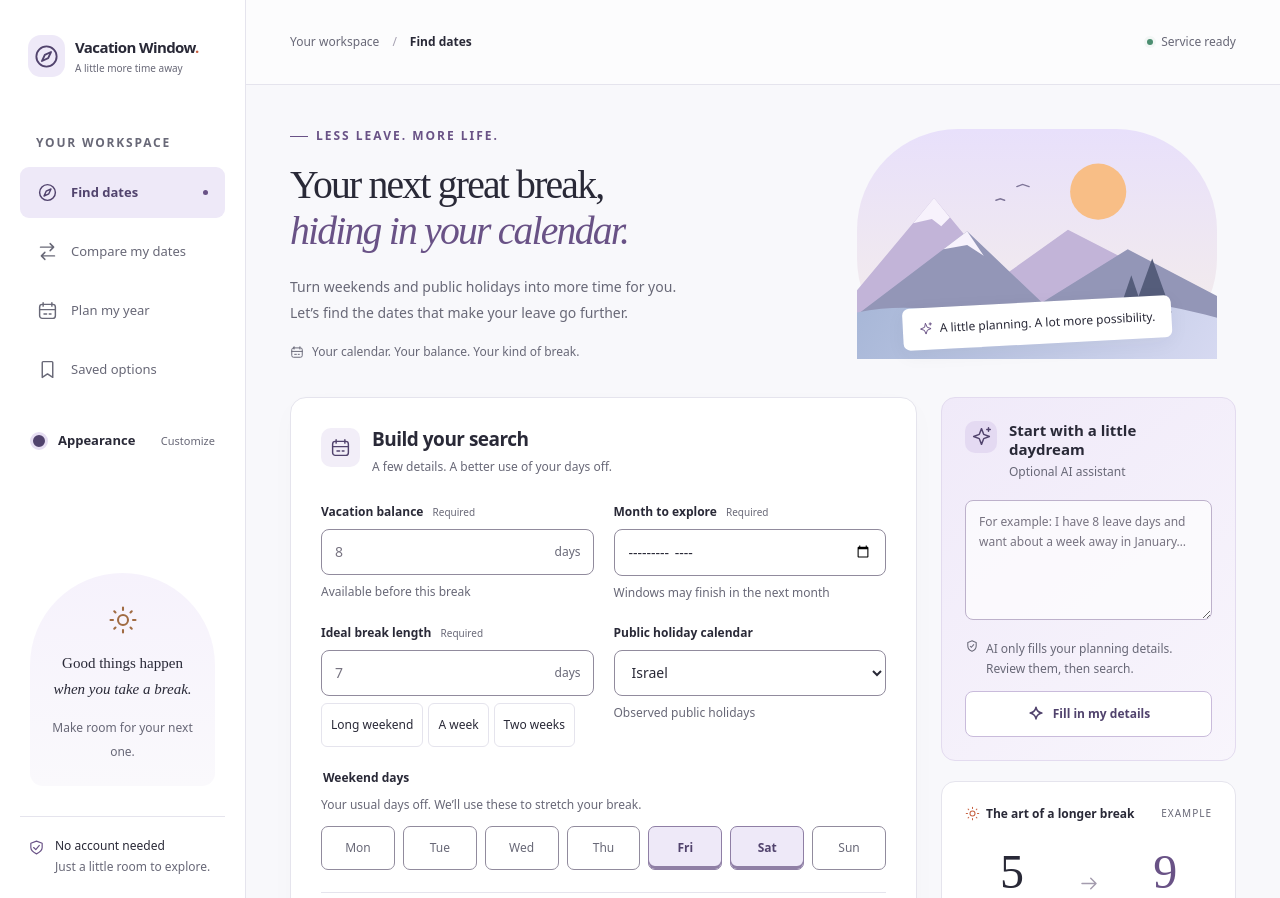
Test: unfinished exact dates cannot be bypassed through another slot
Check: the text "Service ready" is shown, box [1147,33,1236,51]
Click the button "Plan my year".
click(122, 310)  # box [20,285,225,336]
(page scrolled)
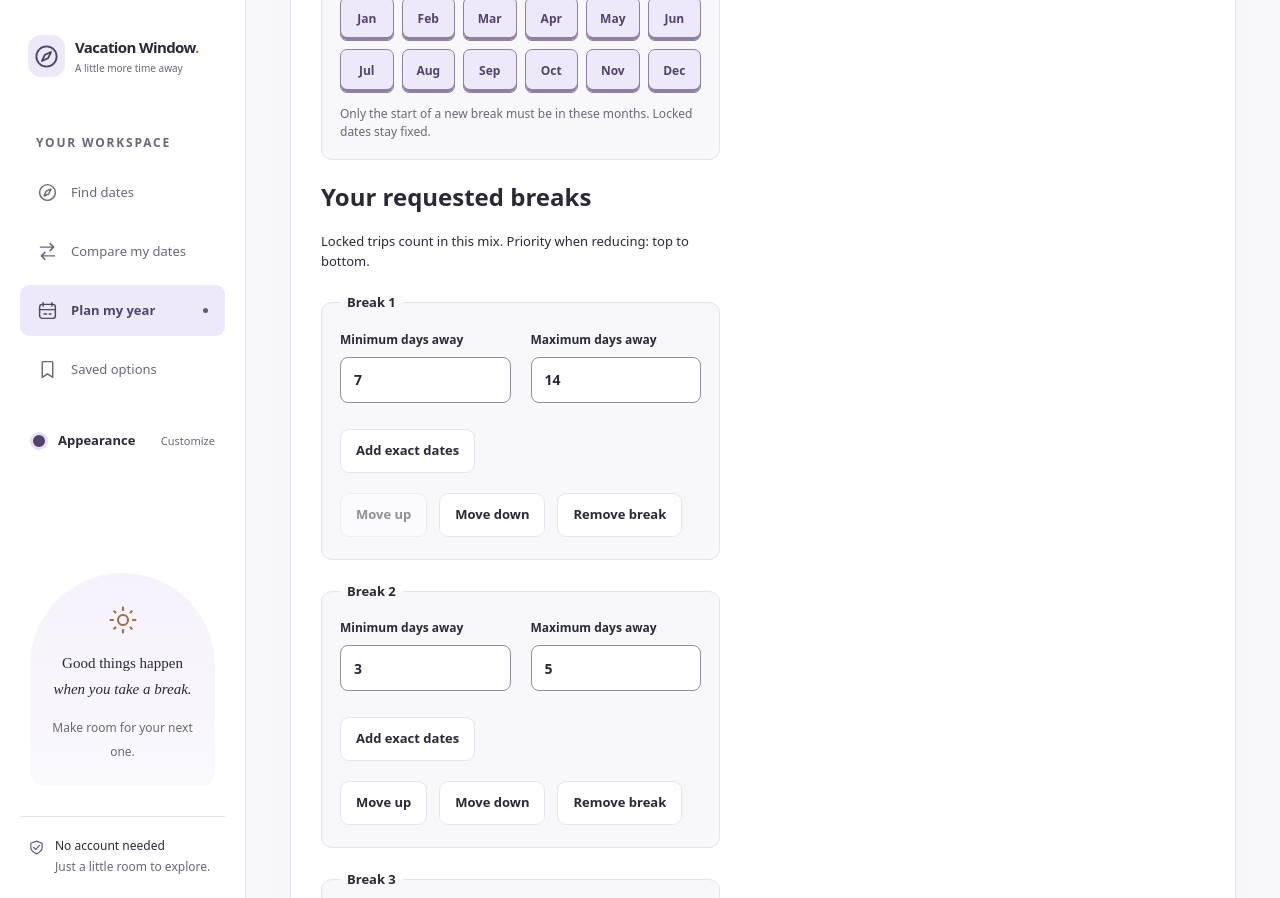
Click the 1st button "Add exact dates".
click(408, 451)  # box [340,429,475,473]
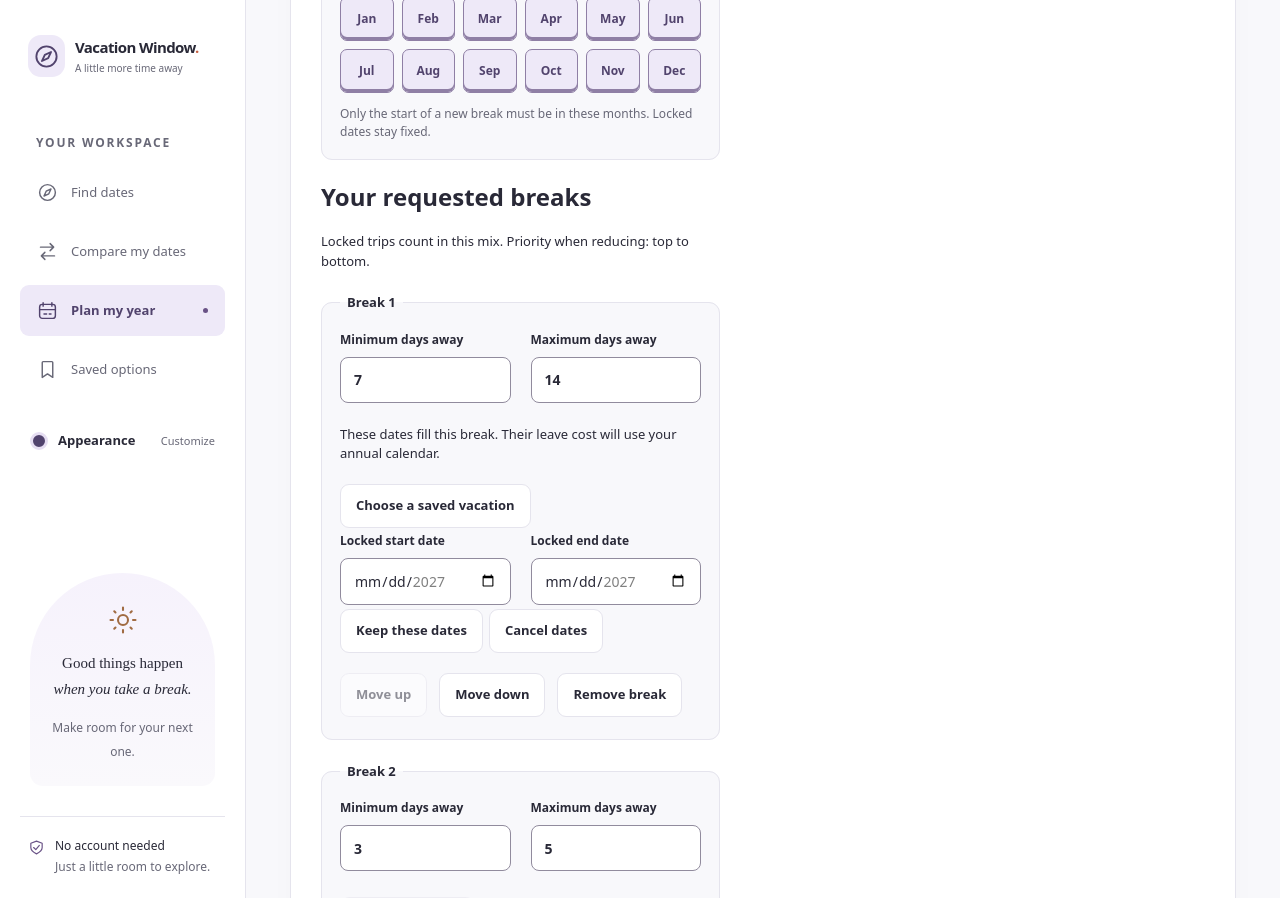
Click the button "Cancel dates".
click(546, 631)  # box [489,609,603,653]
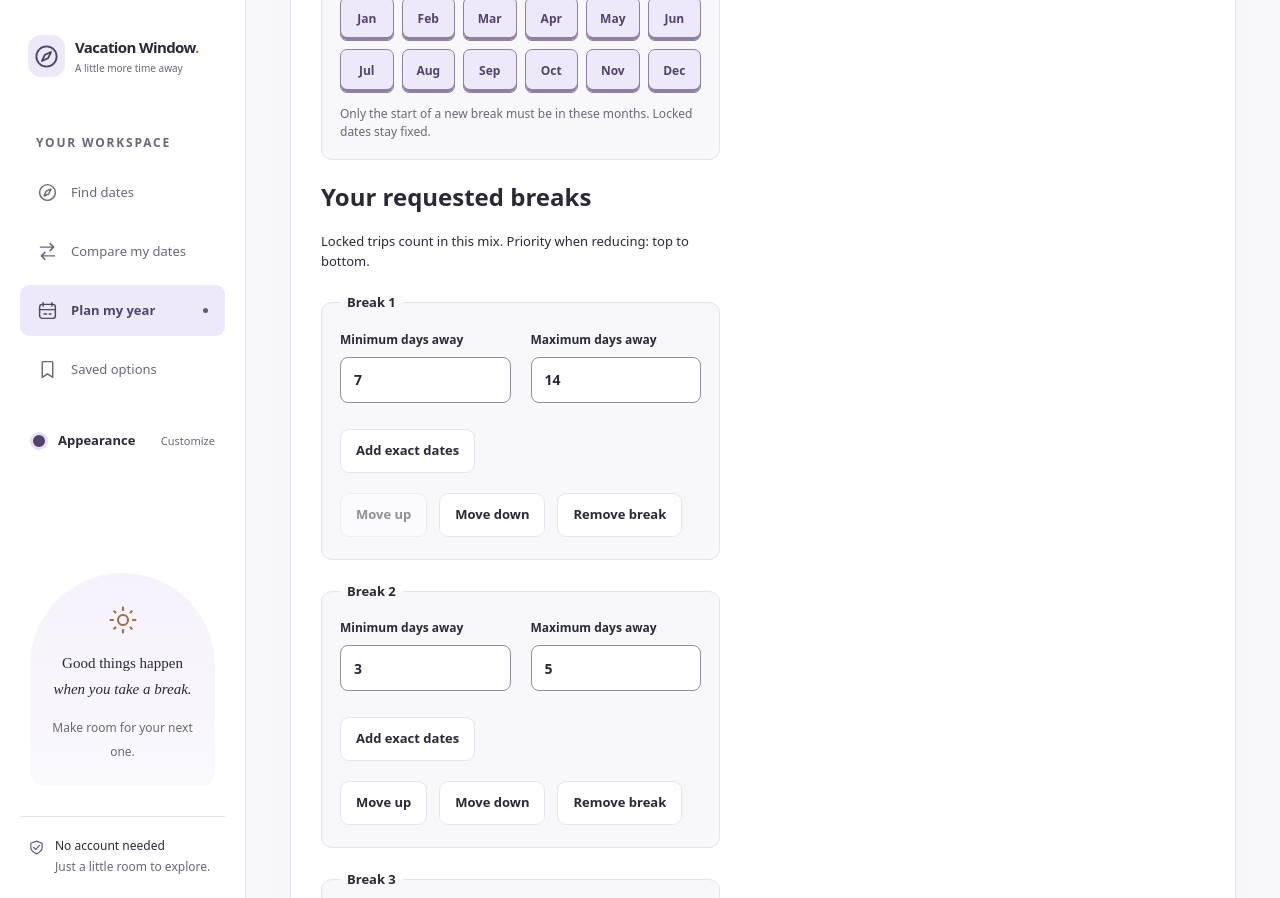
Check: the 2nd button "Add exact dates" is enabled, box [340,717,475,761]
